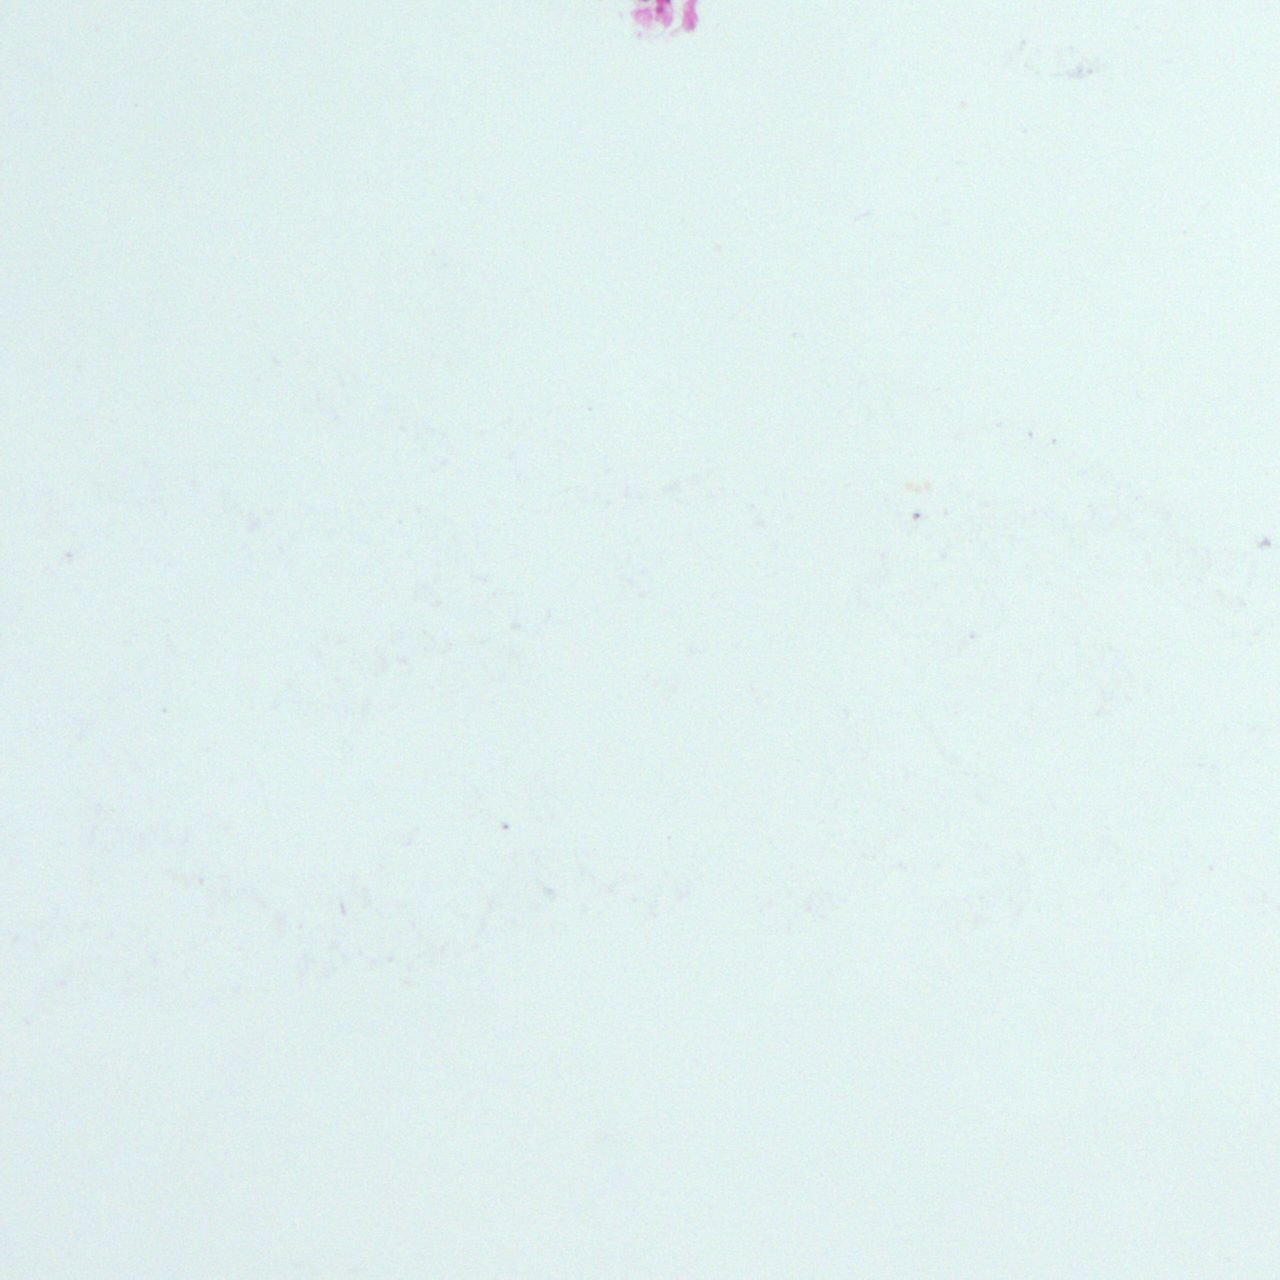dust: (1259, 536, 1271, 547), (913, 511, 920, 518)
